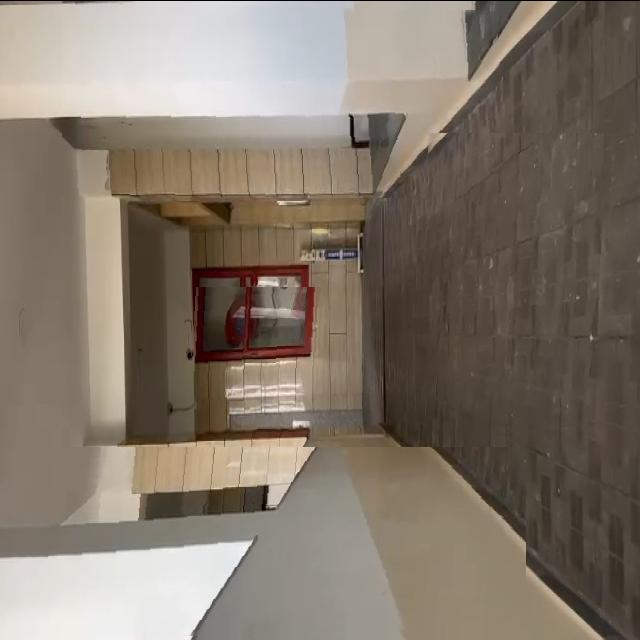door: (190, 286, 327, 378)
floor: (415, 132, 640, 442)
wall: (23, 446, 526, 640), (62, 0, 507, 197)
